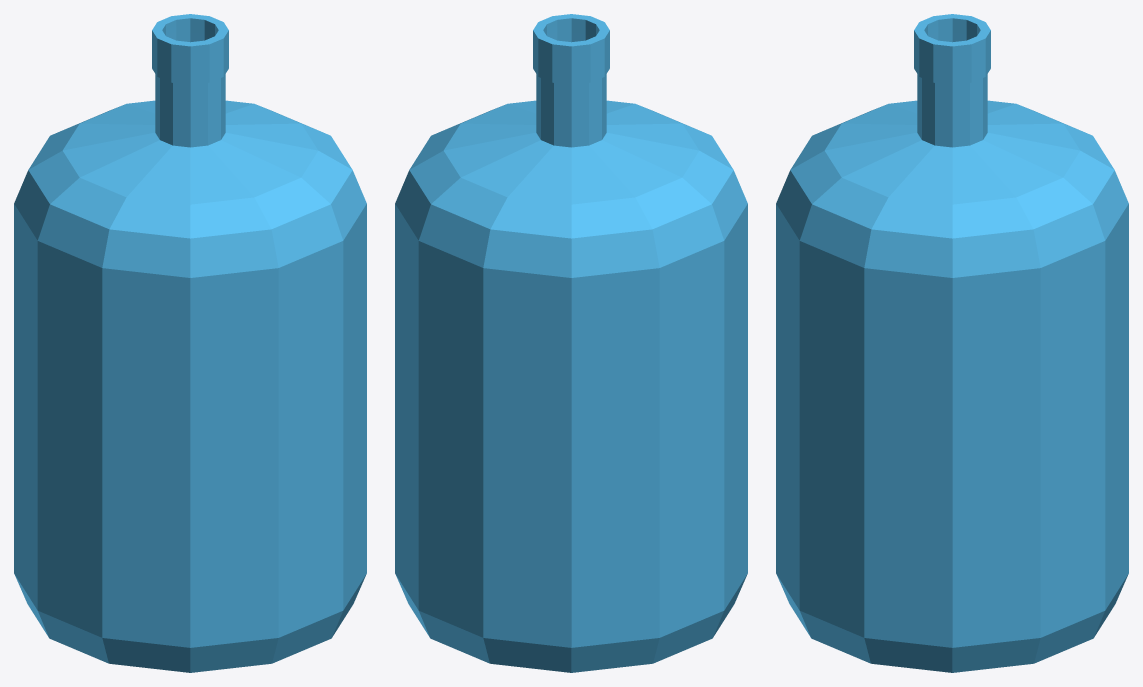
Rendered from WaterJug.fbx.
The picture shows the model from 3 angles, left to right: view 1: azimuth 30°, elevation 25°; view 2: azimuth 150°, elevation 25°; view 3: azimuth 270°, elevation 25°; orthographic projection.
Parts seen in each view (by area): view 1: Water Jug; view 2: Water Jug; view 3: Water Jug.
Part boxes in pixels (x1,y1,x2,y2): Water Jug: (14, 14, 366, 672); Water Jug: (395, 14, 747, 672); Water Jug: (776, 14, 1128, 672).
Size of the model in its own units: 0.2496 by 0.2496 by 0.458.
